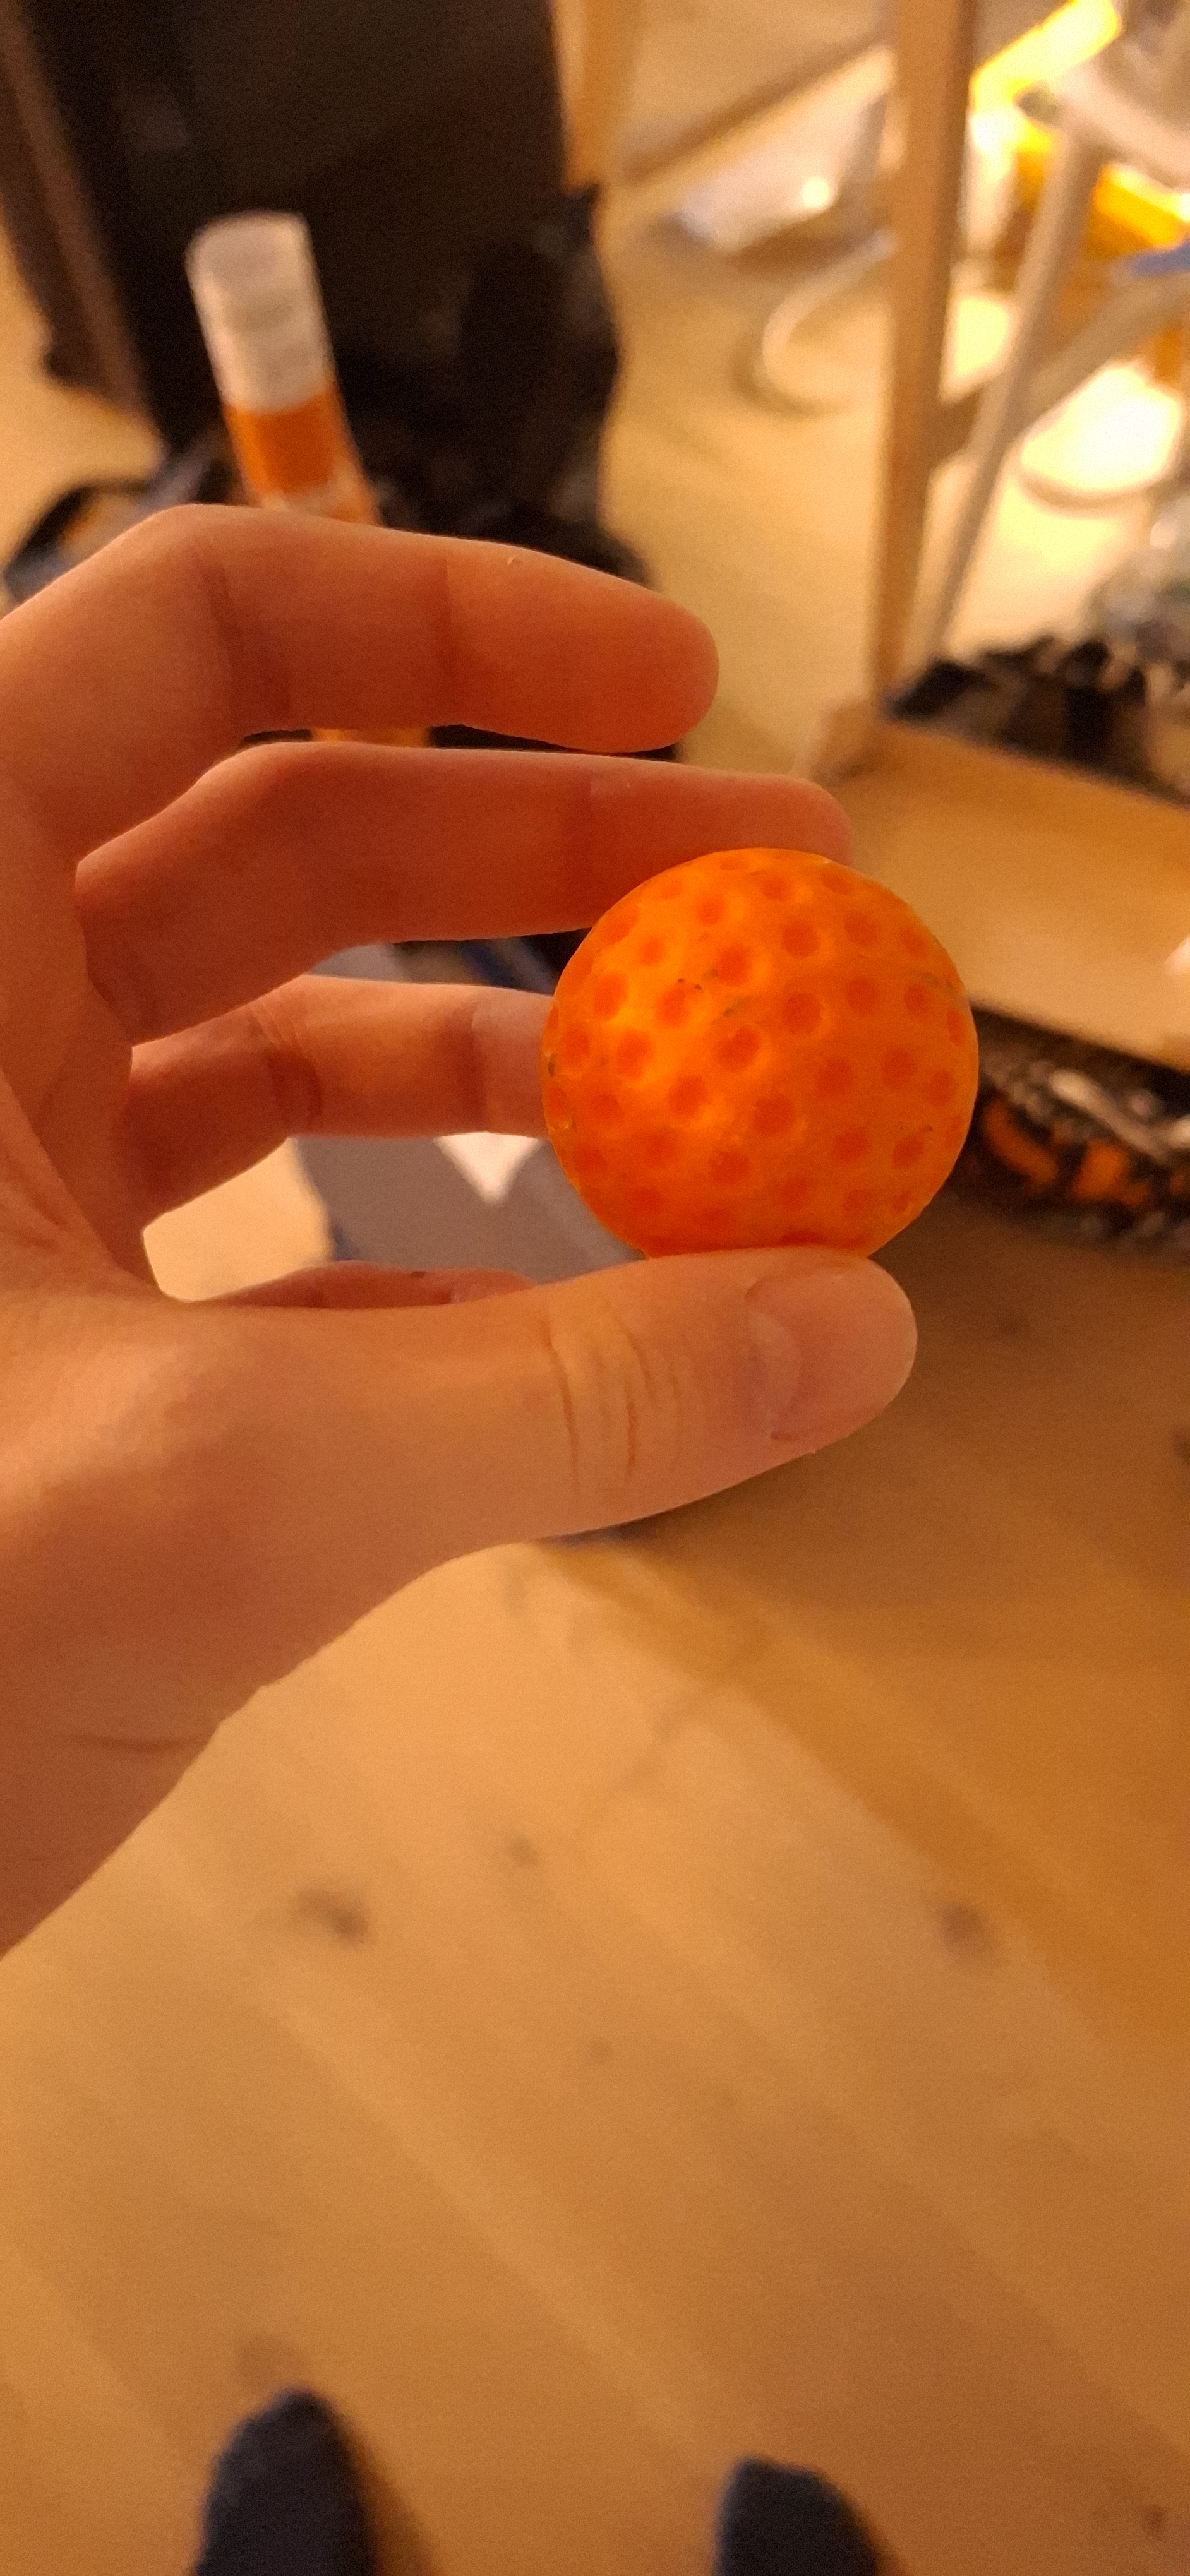ball: (393, 455, 585, 1401)
